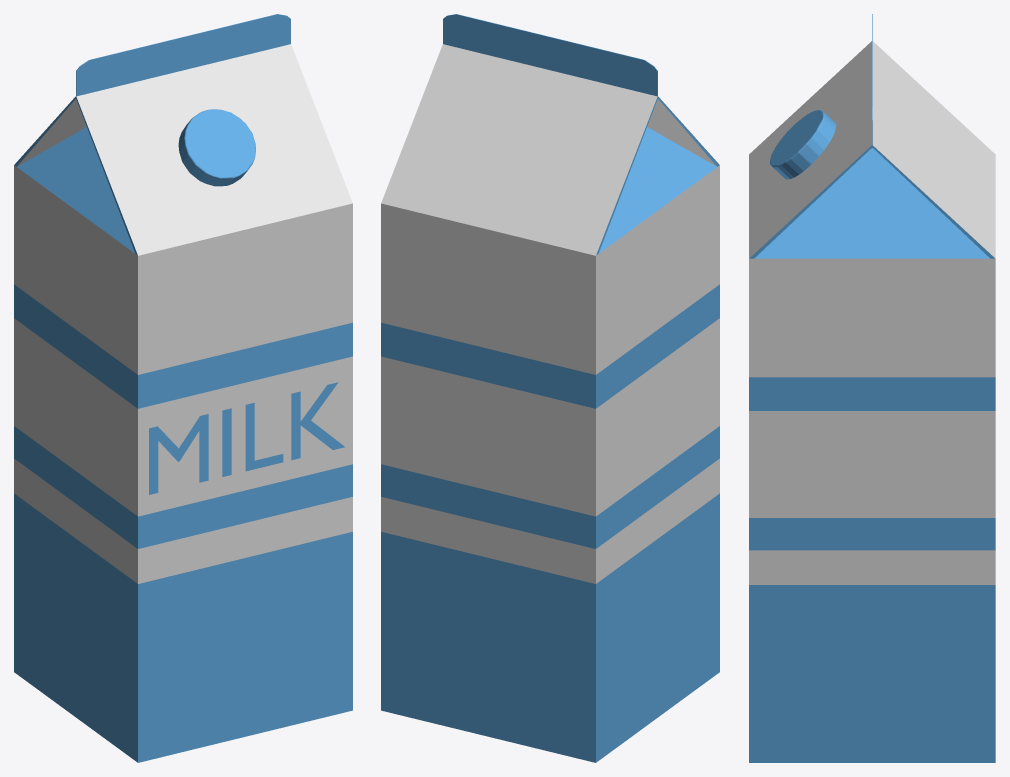
Rendered from Milk.fbx.
3 renders of one model, left to right at view 1: azimuth 30°, elevation 25°; view 2: azimuth 150°, elevation 25°; view 3: azimuth 270°, elevation 25°, orthographic.
Parts seen in each view (by area): view 1: Milk; view 2: Milk; view 3: Milk.
Part boxes in pixels (x1,y1,x2,y2): Milk: (14,14,352,762); Milk: (381,14,719,762); Milk: (749,14,995,762).
Size of the model in its own units: 71.59 by 208 by 71.78.
